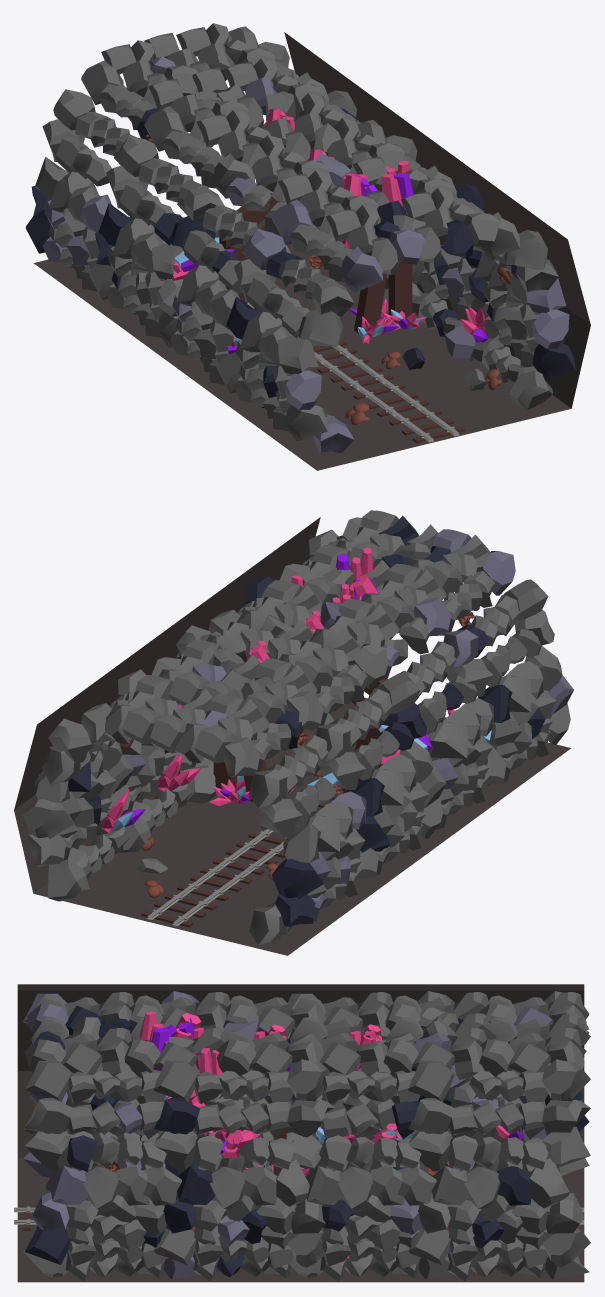
Rendered from cave.fbx.
3 views of the same model, one above another, from view 1: azimuth 30°, elevation 25°; view 2: azimuth 150°, elevation 25°; view 3: azimuth 270°, elevation 25° (orthographic).
Parts seen in each view (by area): view 1: Cube.776, Cube.595, Cube.1014, Cube.1330, Cube.608, Cube.1294; view 2: Cube.776, Cube.595, Cube.1014, Cube.1330, Cube.608, Cube.1294; view 3: Cube.776, Cube.595, Cube.1014.
Boxes of the visible parts, left/top/right/bottom form: Cube.776: left=25, top=23, right=575, bottom=453; Cube.595: left=33, top=32, right=590, bottom=470; Cube.1014: left=172, top=109, right=487, bottom=353; Cube.1330: left=162, top=240, right=464, bottom=442; Cube.608: left=219, top=197, right=412, bottom=334; Cube.1294: left=145, top=134, right=512, bottom=424; Cube.776: left=22, top=510, right=573, bottom=945; Cube.595: left=14, top=517, right=571, bottom=955; Cube.1014: left=101, top=547, right=491, bottom=832; Cube.1330: left=141, top=717, right=446, bottom=927; Cube.608: left=213, top=652, right=388, bottom=801; Cube.1294: left=120, top=612, right=474, bottom=897; Cube.776: left=23, top=991, right=590, bottom=1280; Cube.595: left=17, top=984, right=584, bottom=1282; Cube.1014: left=139, top=1011, right=522, bottom=1258.
Size of the model in its own units: 549 by 416 by 934.
